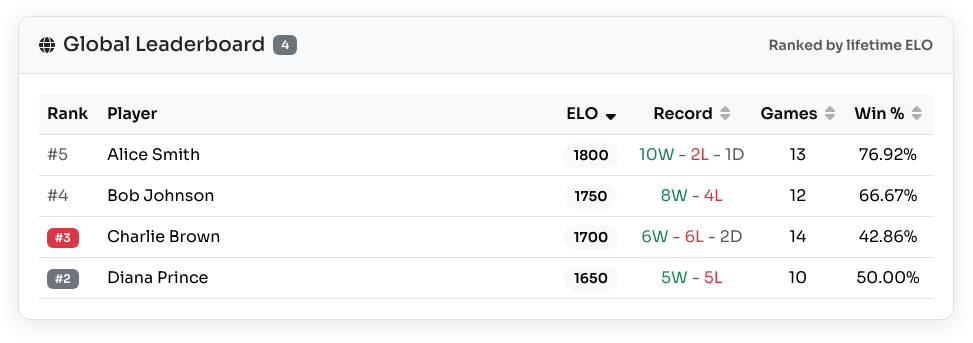
Test case: GlobalLeaderboard › sort icons › should show up arrow for ascending sort
Expected: the text "Alice Smith" is shown, left=99, top=134, right=551, bottom=176
Click the column heading "ELO" at point(591, 114), box left=551, top=94, right=631, bottom=134
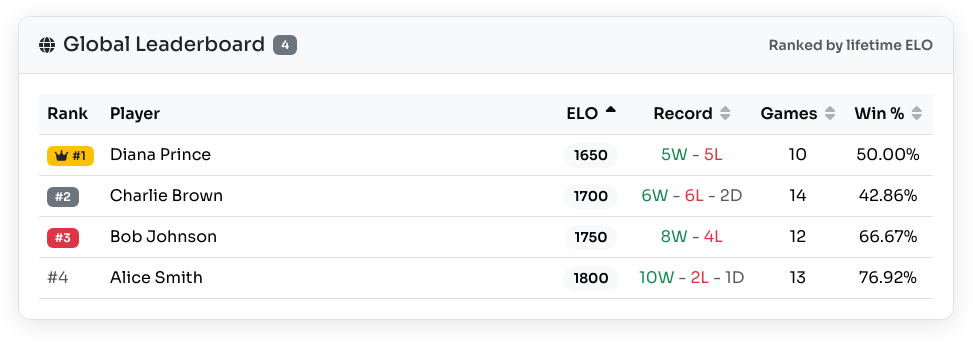
Expected: the icon with class "fa-sort-up" is shown, left=606, top=105, right=616, bottom=121
